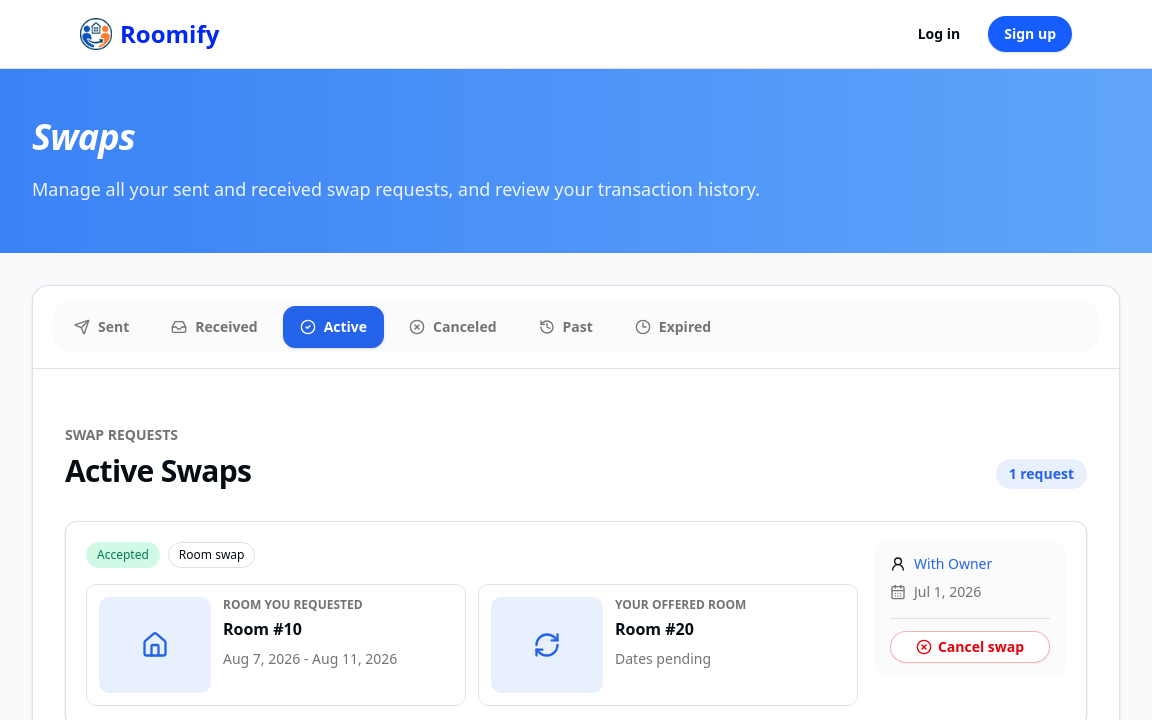
SwapsPage cancel flow › opens the cancel dialog and patches with canceled status only
Later steps or results of the test are not shown.
Click the button "Cancel swap" at [970, 647], box [890,631,1050,663]
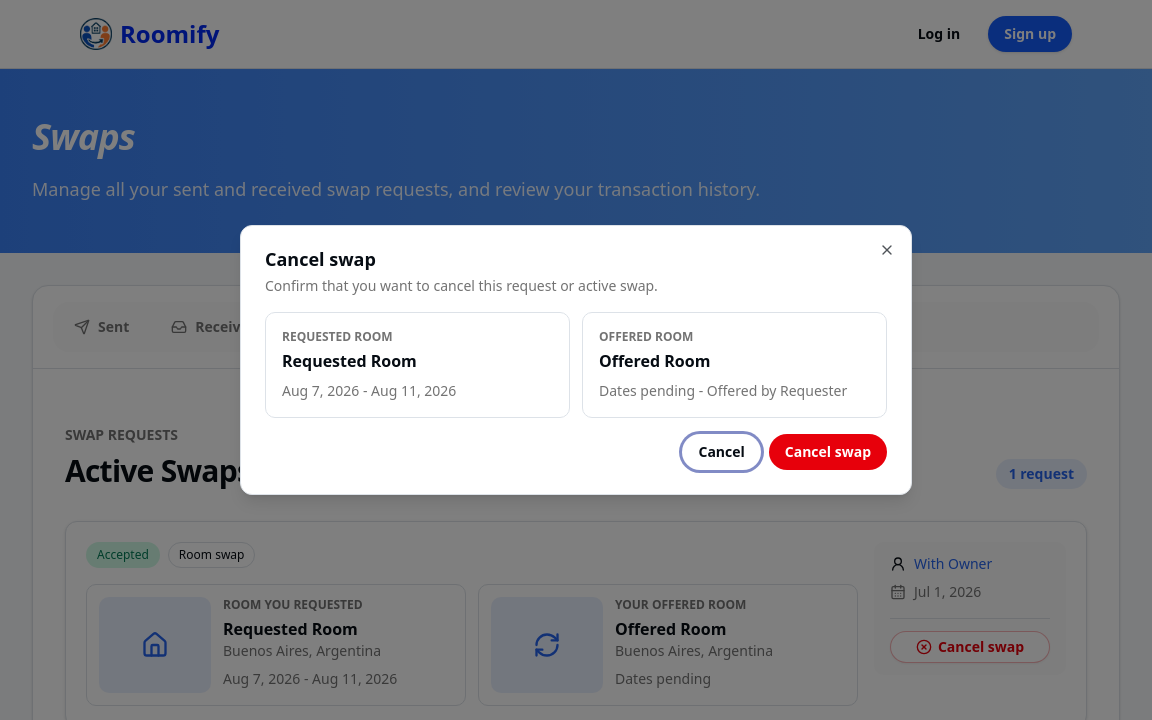
Result: the dialog shows "Confirm that you want to cancel this request or active swap." at [265,276,658,295]
